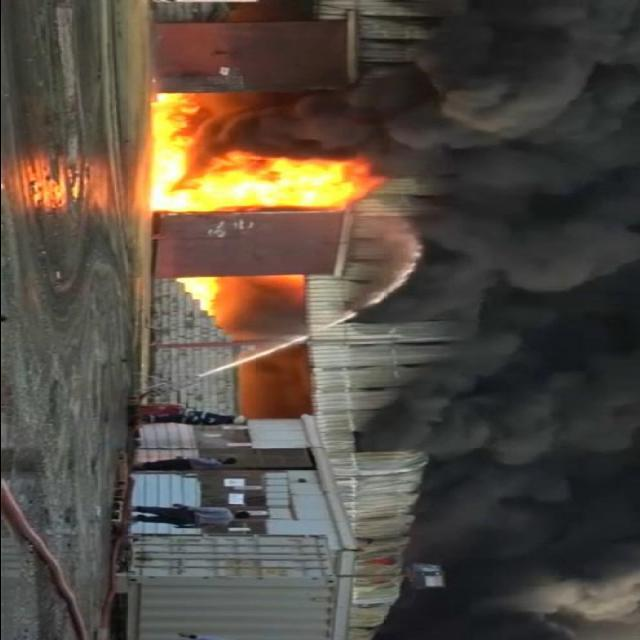Fire: (140, 92, 366, 218)
